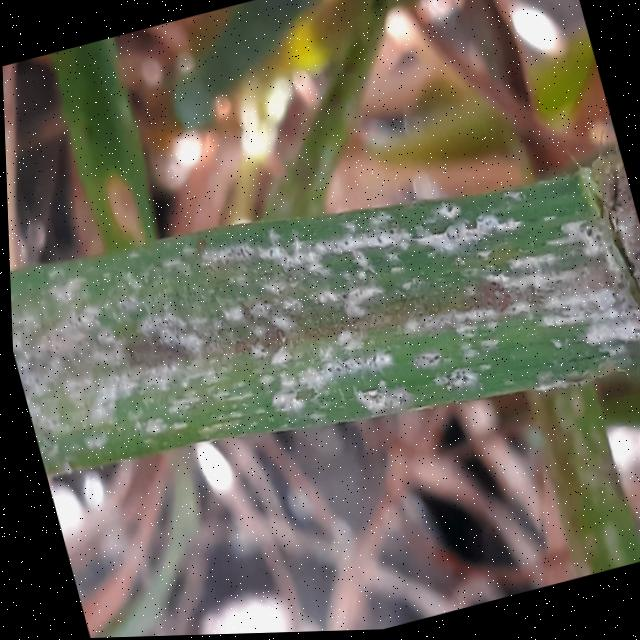powder_mildew: (3, 84, 640, 597)
